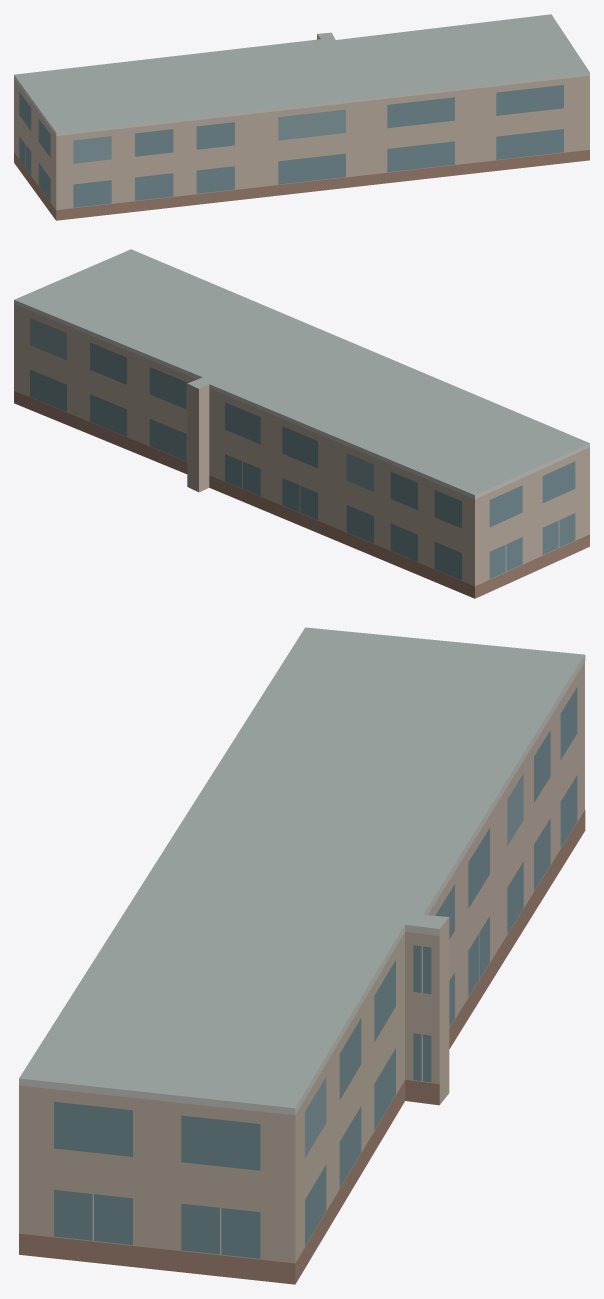
The model's file is survey-upis-32756990.glb.
3 views of the same model, one above another, from view 1: azimuth 30°, elevation 25°; view 2: azimuth 150°, elevation 25°; view 3: azimuth 270°, elevation 25° (orthographic). The views are drawn at different scales.
Parts seen in each view (by area): view 1: survey-upis-32756990.tmp; view 2: survey-upis-32756990.tmp; view 3: survey-upis-32756990.tmp.
Boxes of the visible parts, x1=… form: survey-upis-32756990.tmp: x1=14, y1=14, x2=589, y2=220; survey-upis-32756990.tmp: x1=14, y1=249, x2=589, y2=598; survey-upis-32756990.tmp: x1=19, y1=627, x2=585, y2=1284.
Size of the model in its own units: 35.72 by 6.1 by 17.77.
